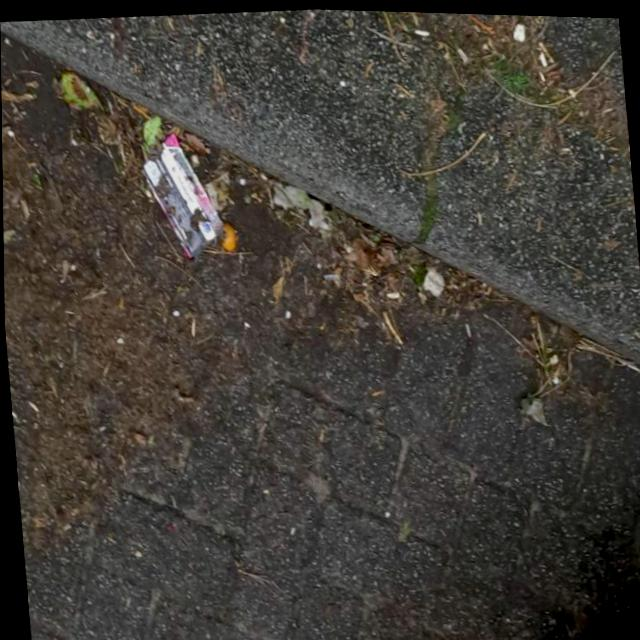Paper: (135, 127, 228, 262)
